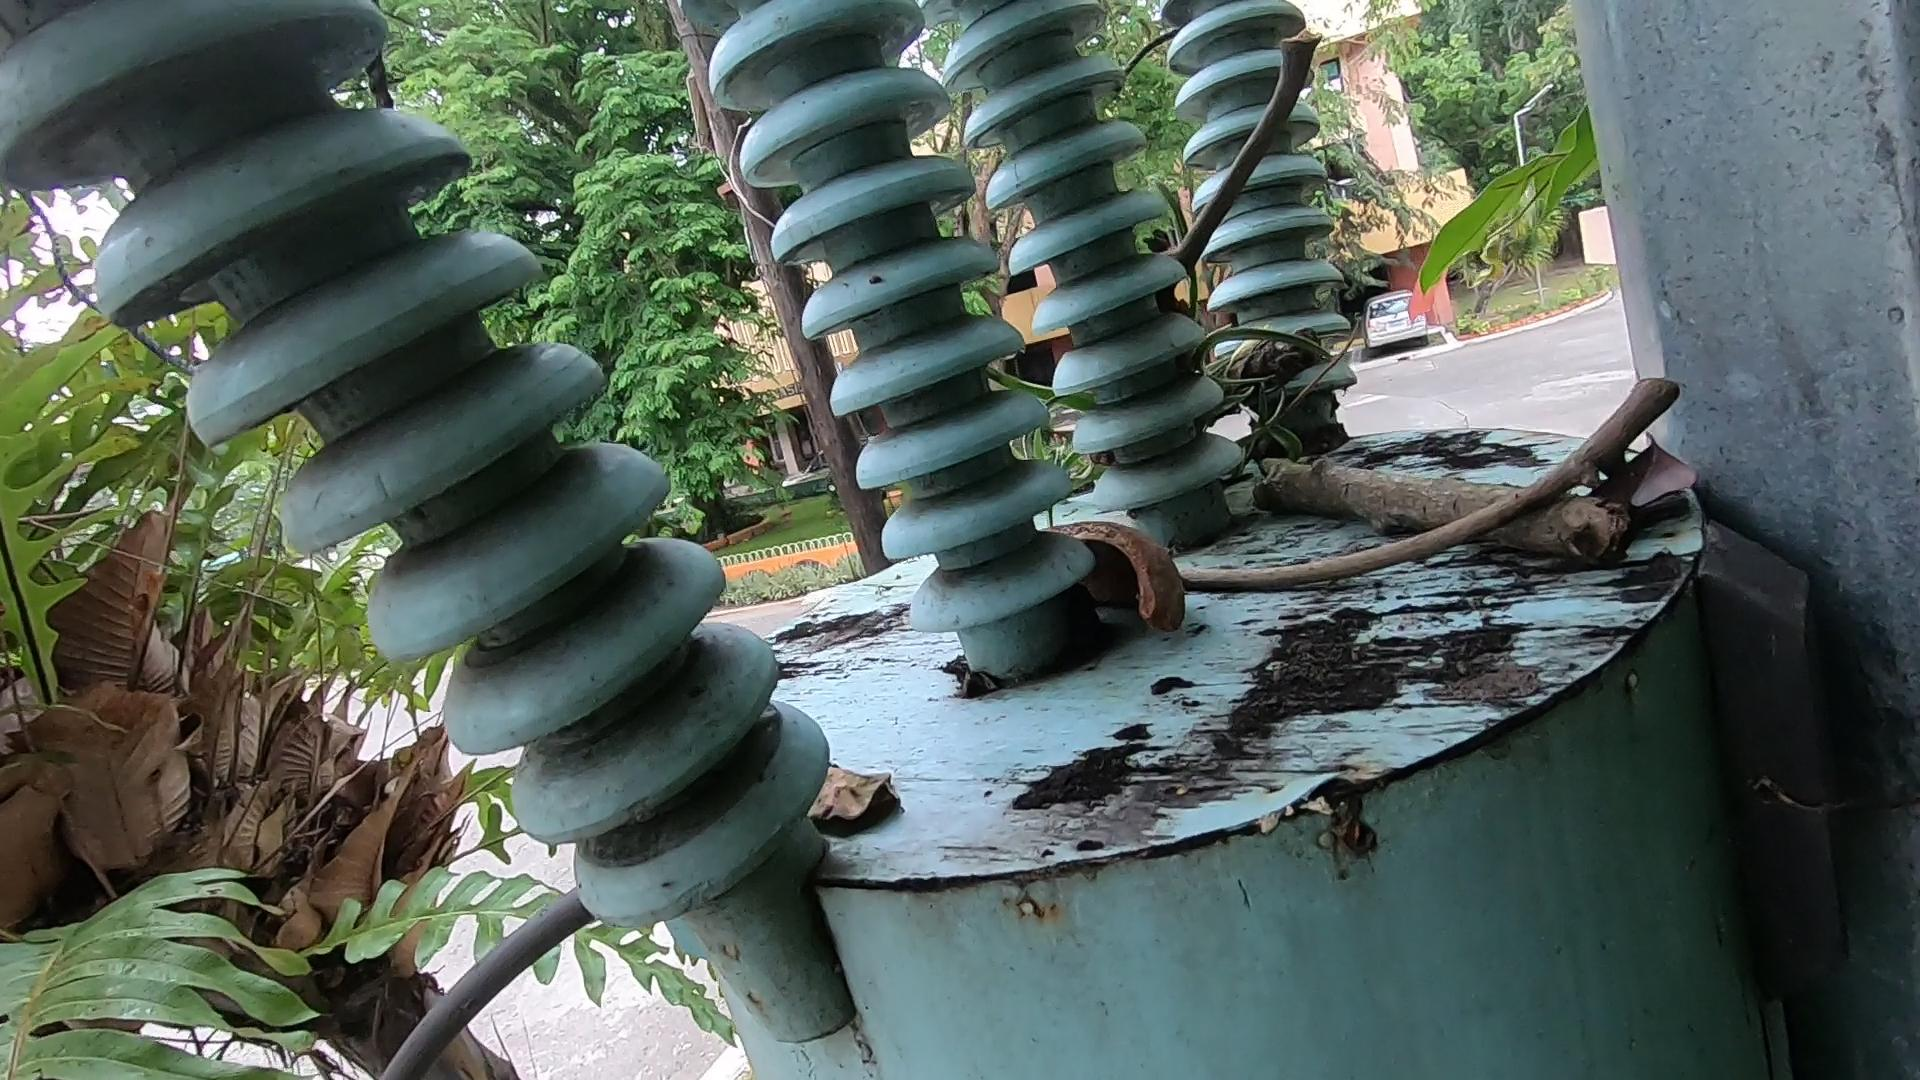branch with leaves: (1110, 261, 1710, 553)
leaf: (1578, 359, 1749, 574), (727, 618, 887, 843)
mahogany fruit: (1040, 505, 1287, 727)
tree branch: (1164, 384, 1695, 571), (1195, 1, 1324, 284)
